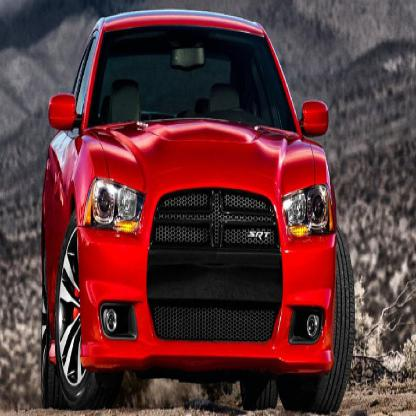Vehicle: (41, 4, 358, 414)
